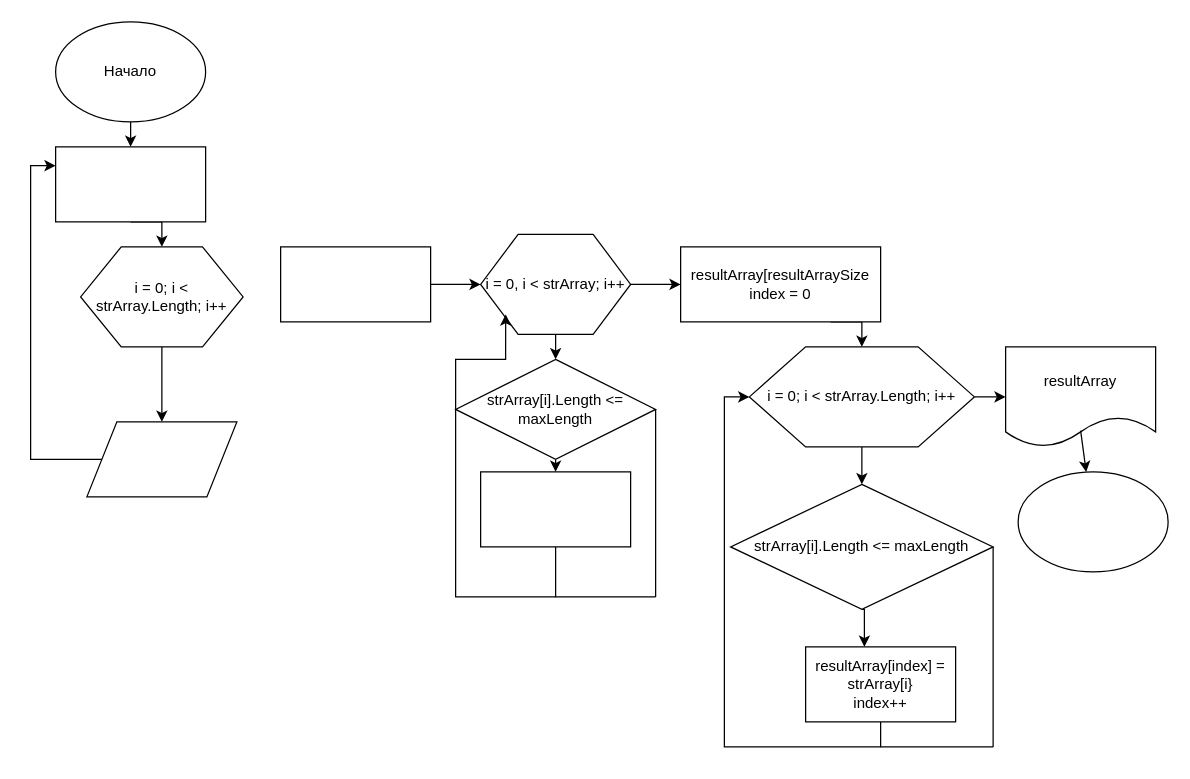
Image size: 1190x779. Some labels were removed from this diagram. The shapes that lost their labels are listed below. From the top down, each one's centre as x and y in pixels, then its label:
(130,184): size = 4 maxLength = 3 strArray[size]
(355,284): resultArraySize = 0
(161,459): strArray[i]
(555,509): resultArraySize += 1
(1092,521): Конец
